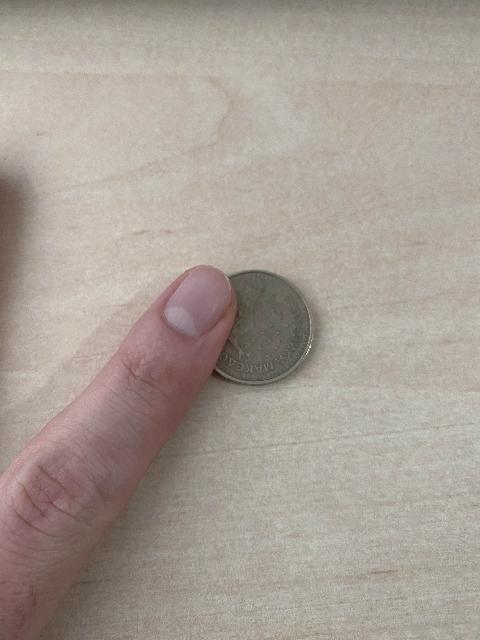coin: (216, 271, 312, 384)
